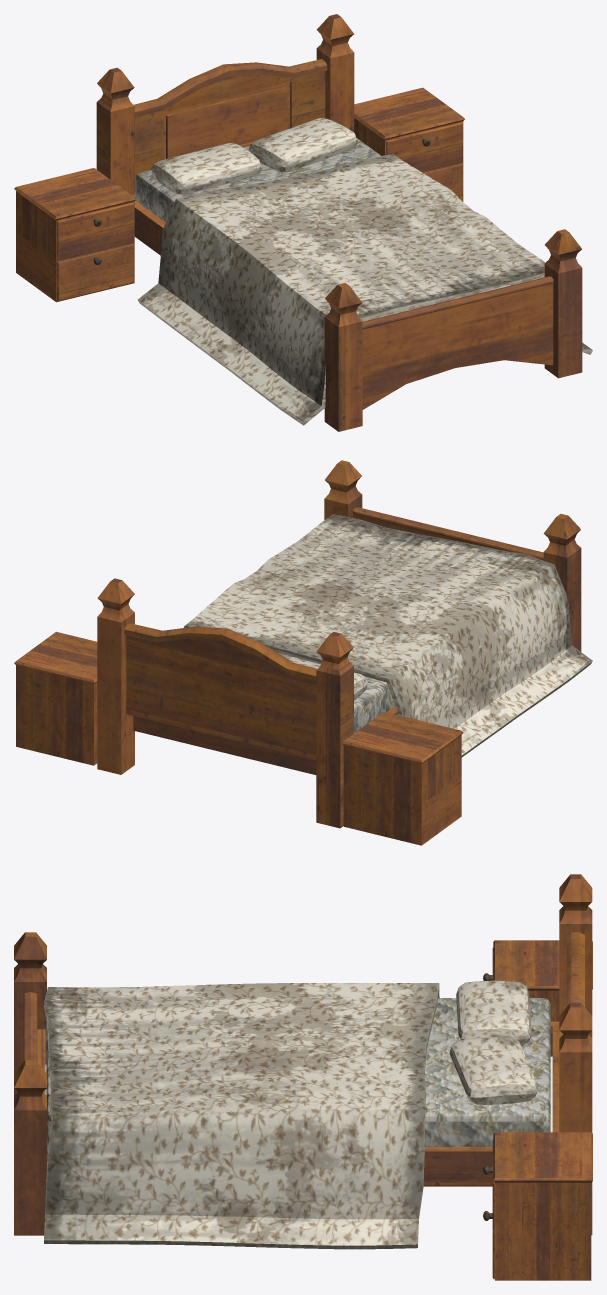
File: 1775669548148_bed.glb
The picture shows the model from 3 angles, top to bottom: view 1: azimuth 30°, elevation 25°; view 2: azimuth 150°, elevation 25°; view 3: azimuth 270°, elevation 25°; orthographic projection. The views are drawn at different scales.
Parts seen in each view (by area): view 1: Cube.004_Cube.007; view 2: Cube.004_Cube.007; view 3: Cube.004_Cube.007.
Part boxes in pixels (x1=…): Cube.004_Cube.007: x1=14, y1=14, x2=592, y2=431; Cube.004_Cube.007: x1=14, y1=460, x2=592, y2=845; Cube.004_Cube.007: x1=14, y1=874, x2=592, y2=1280.
Size of the model in its own units: 2.8 by 1.23 by 2.86.
2 materials, 1 textured.
